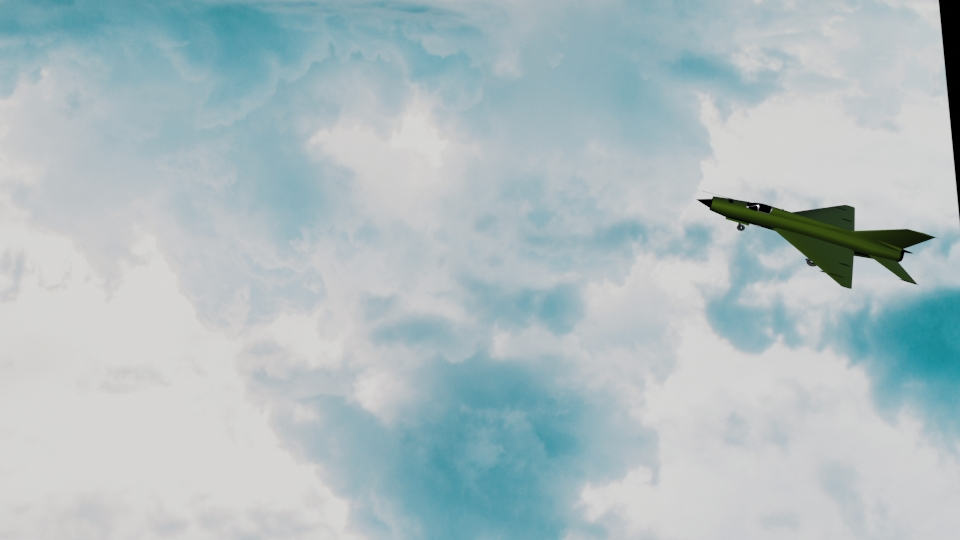plane: (693, 190, 934, 287)
